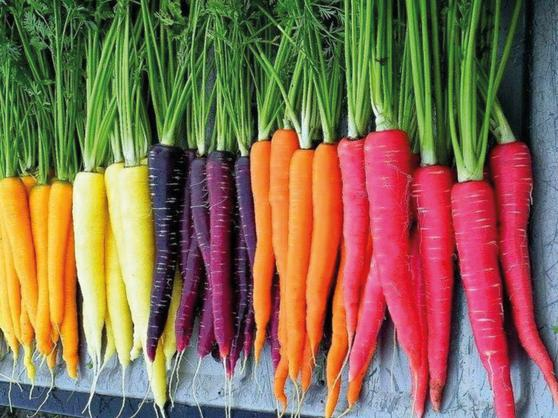carrot: (2, 181, 38, 326), (45, 179, 72, 335)
